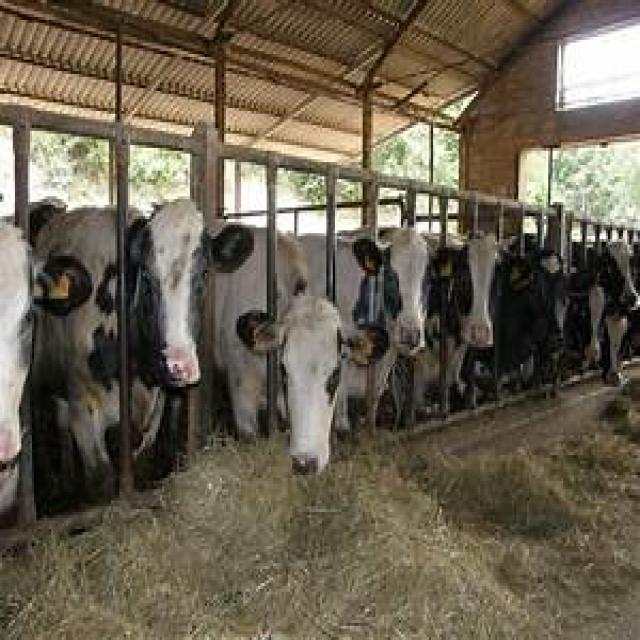cow: (218, 230, 343, 478), (128, 199, 211, 472), (348, 228, 454, 424), (463, 230, 503, 356), (606, 239, 640, 356)
